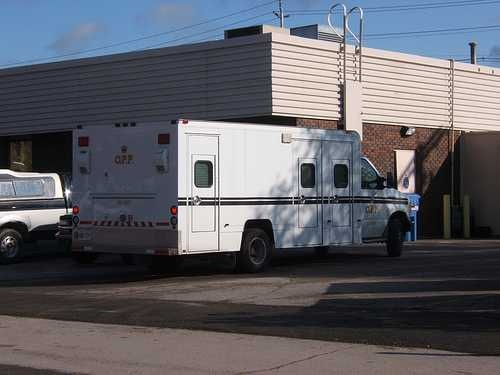Ambulance: (61, 102, 422, 268)
